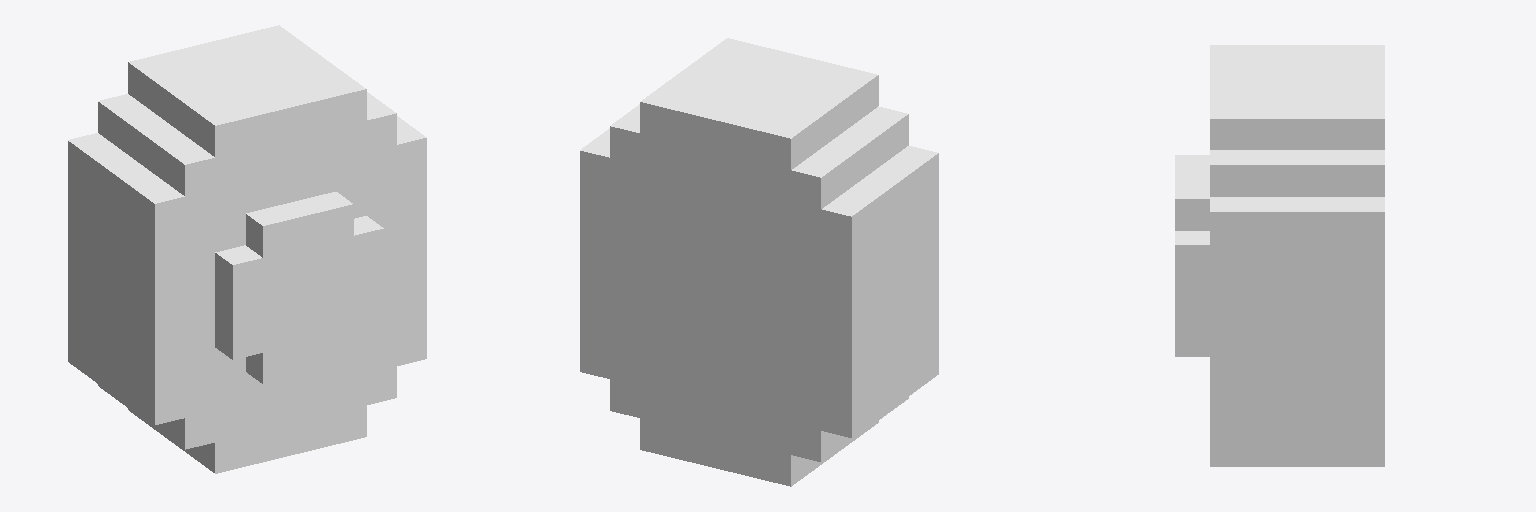
File: wheels.obj
3 renders of one model, left to right at view 1: azimuth 30°, elevation 25°; view 2: azimuth 150°, elevation 25°; view 3: azimuth 270°, elevation 25°, orthographic.
Visible parts, largest first — view 1: object 1; view 2: object 1; view 3: object 1.
Part boxes in pixels (bbox=[...]): object 1: bbox=[68, 25, 426, 473]; object 1: bbox=[580, 38, 938, 486]; object 1: bbox=[1175, 45, 1384, 466].
Size of the model in its own units: 0.9 by 1.1 by 0.6.